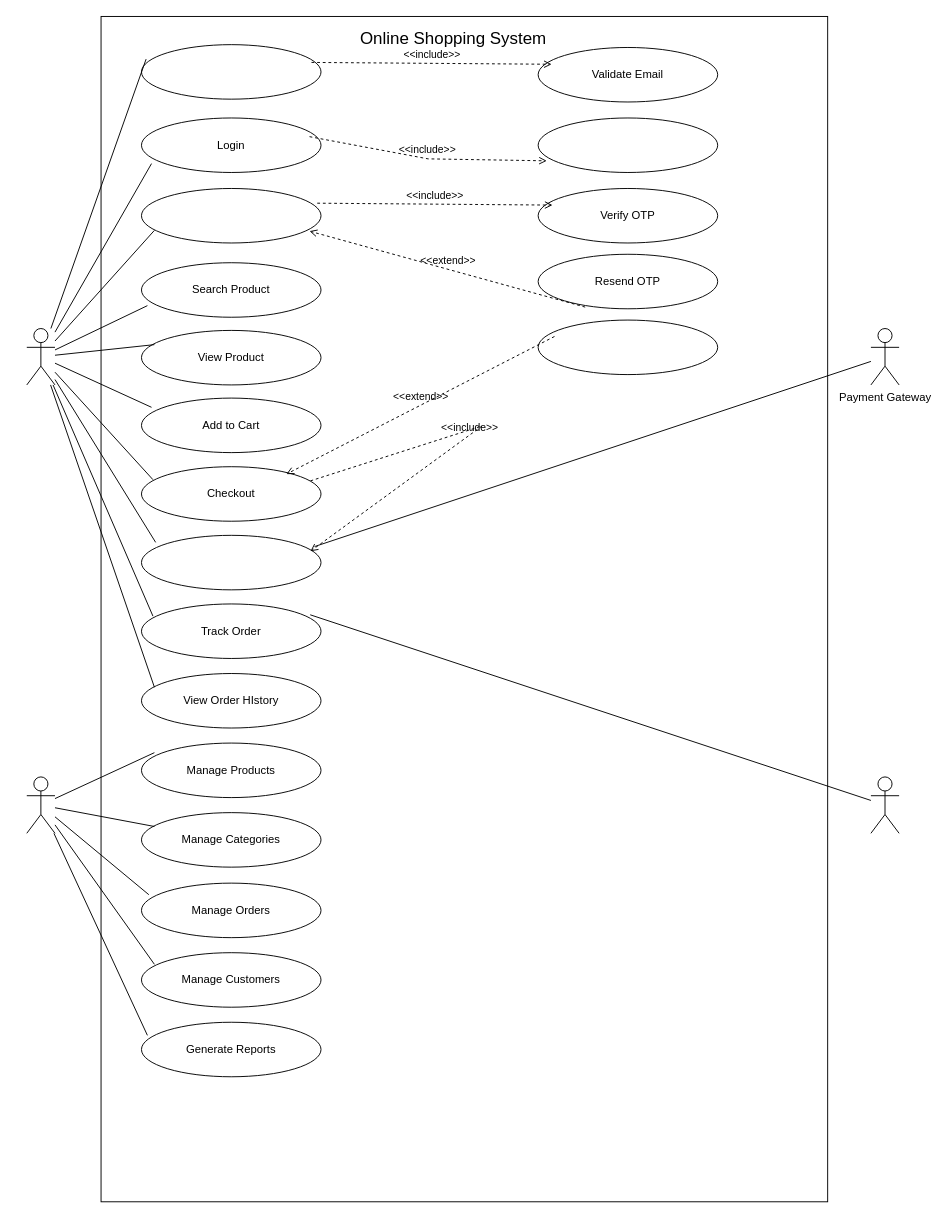
Some shapes in this 948 by 1218 pixel diagram are drawn without their labels. The shapes that lost their labels are listed below. From the top down, each one's box as (x1, y1, x2, y2) in pixels, then its label:
(141, 44, 321, 99): Register
(537, 117, 718, 172): Authenticate User
(141, 188, 321, 243): Forgot Password
(26, 328, 55, 385): Customer
(537, 319, 718, 375): Apply Coupon
(141, 534, 321, 590): Make Payment
(26, 776, 55, 833): Admin
(870, 776, 899, 833): Delivery Partner
